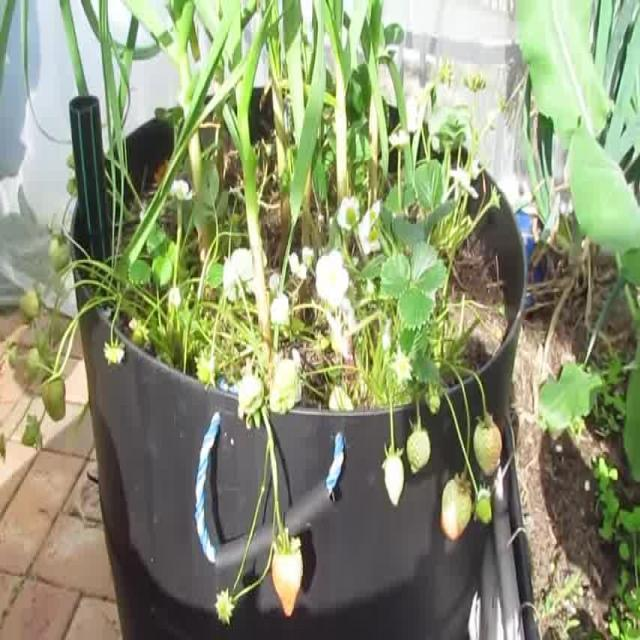Fruta sana: (272, 528, 303, 616), (473, 415, 503, 475), (41, 362, 66, 420), (50, 230, 70, 272), (473, 486, 492, 524), (22, 415, 42, 449), (24, 348, 41, 386), (23, 286, 41, 321), (425, 386, 442, 414), (311, 330, 330, 354), (133, 320, 149, 346), (8, 342, 18, 368)
Moho gris: (441, 476, 472, 538), (406, 418, 431, 477), (384, 447, 406, 507)
